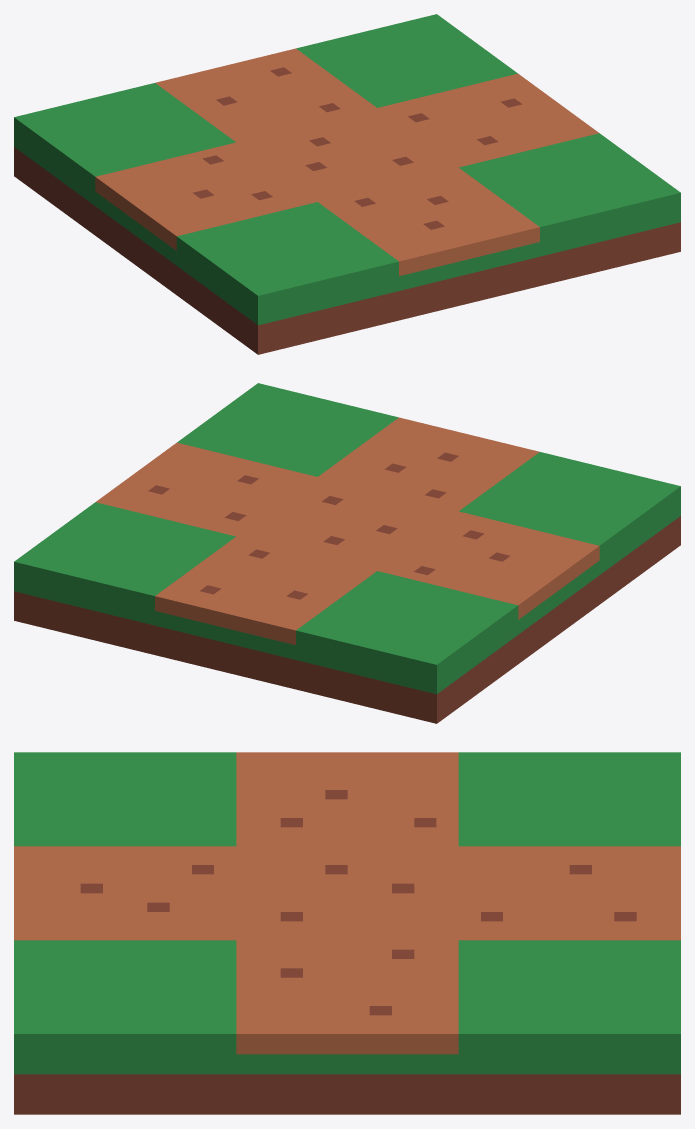
Rendered from Path4Way.obj.
3 views of the same model, one above another, from view 1: azimuth 30°, elevation 25°; view 2: azimuth 150°, elevation 25°; view 3: azimuth 270°, elevation 25° (orthographic). The views are drawn at different scales.
Bounding box in the file's own units: 3 × 0.4 × 3.
Materials: 1 (1 with a texture image).
